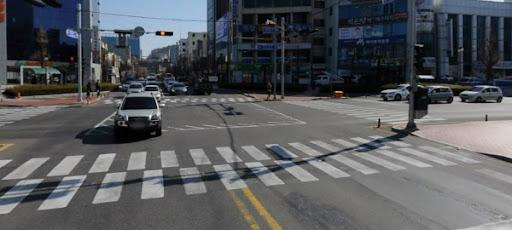crosswalk: (0, 132, 512, 215), (287, 94, 436, 128), (97, 91, 271, 109), (0, 102, 82, 130)
